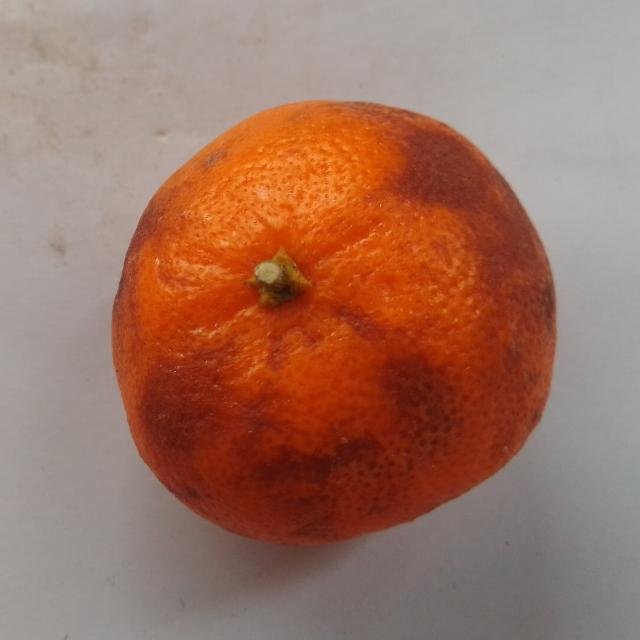orange: (113, 102, 555, 544)
